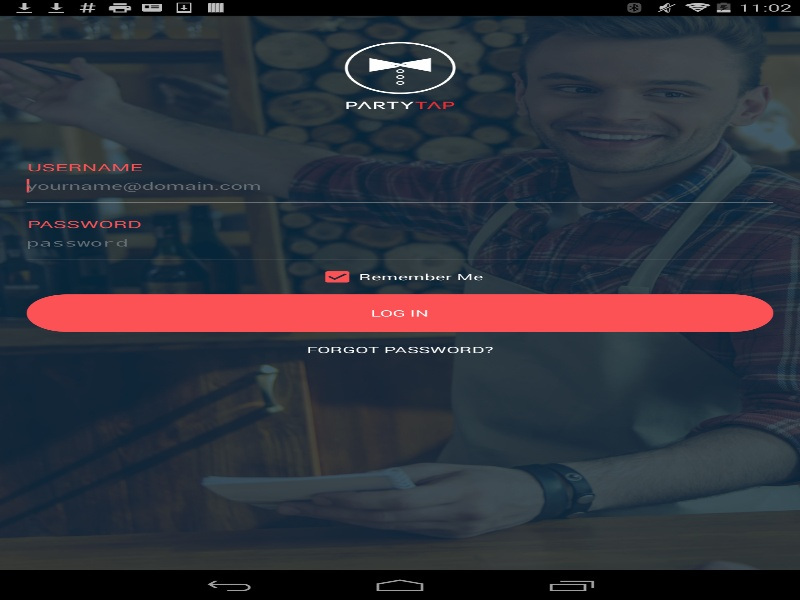Button: (26, 294, 773, 331)
Input: (26, 235, 773, 259), (26, 179, 773, 202)
